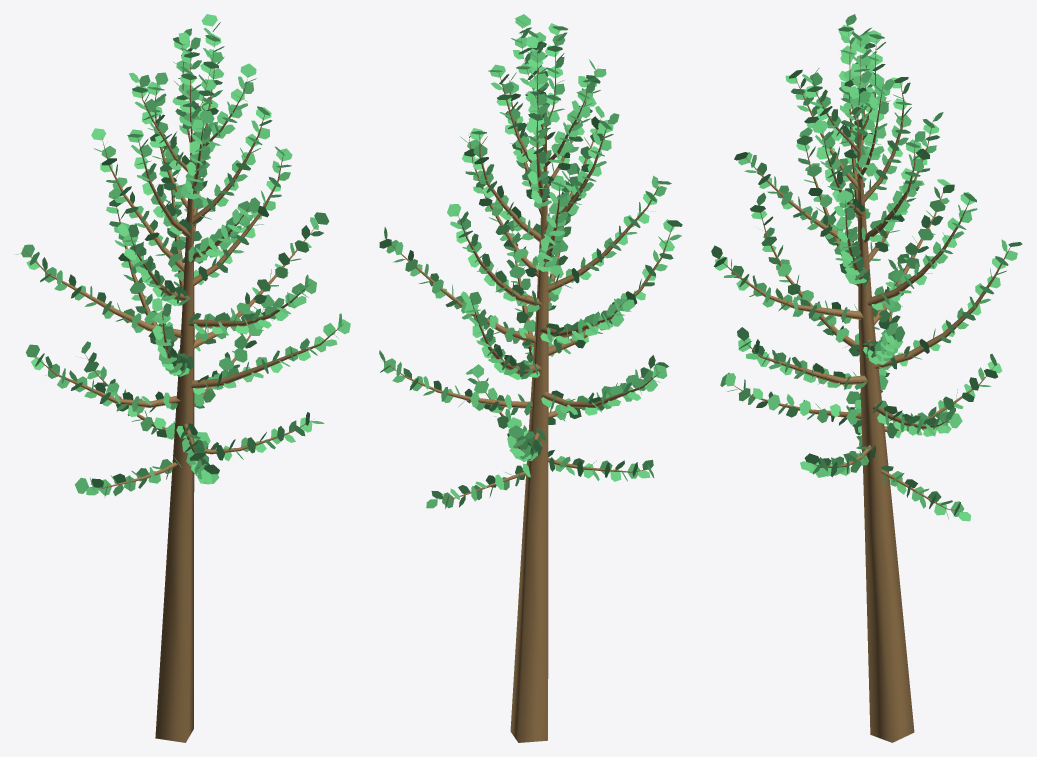
Rendered from tree.fbx.
The picture shows the model from 3 angles, left to right: view 1: azimuth 30°, elevation 25°; view 2: azimuth 150°, elevation 25°; view 3: azimuth 270°, elevation 25°; orthographic projection. The views are drawn at different scales.
Visible parts, largest first — view 1: leaves, tree; view 2: leaves, tree; view 3: leaves, tree.
Boxes of the visible parts, x1,y1,x2,y2 form: leaves: (14, 14, 350, 497); tree: (22, 41, 343, 742); leaves: (379, 14, 682, 508); tree: (382, 28, 672, 742); leaves: (711, 14, 1022, 521); tree: (717, 33, 1010, 742).
Size of the model in its own units: 217 by 512 by 202.
